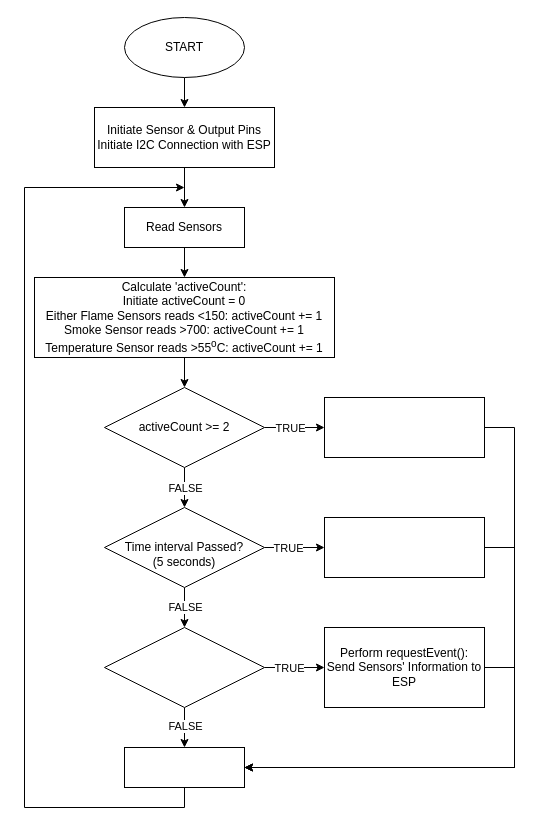
Image size: 540x833. Some labels were removed from this diagram. Each missing label, with the centre of its shape:
"50 seconds Delay" goes at (x=184, y=767).
"Activate Pump & Buzzer alarmTriggered = 1 Reset time interval" goes at (x=404, y=427).
"Deactivate Pump & Buzzer alarmTriggered = 0 Reset time interval" goes at (x=404, y=547).
"Receive Request From ESP?" goes at (x=184, y=667).
